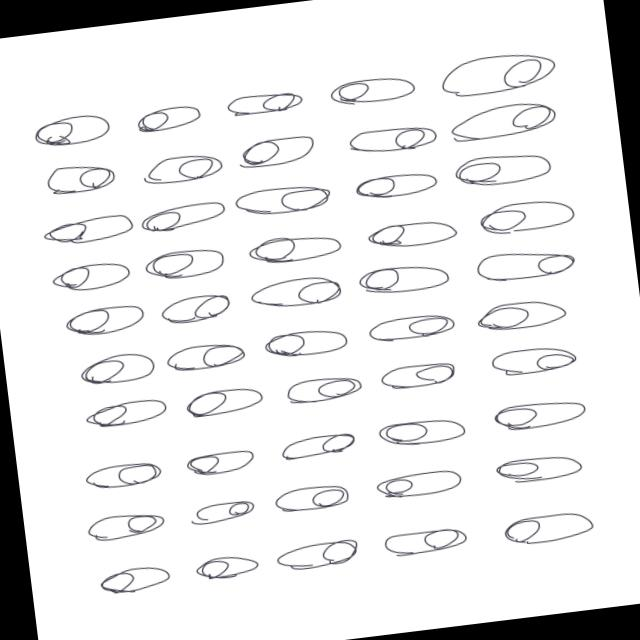Toggle: (429, 42, 572, 104), (499, 490, 606, 560), (350, 302, 464, 358), (444, 95, 564, 146), (487, 382, 597, 436), (354, 205, 466, 257), (232, 174, 341, 227), (244, 266, 354, 318), (444, 143, 550, 196), (354, 251, 460, 303), (10, 104, 120, 154), (477, 191, 586, 241), (466, 240, 578, 288), (372, 511, 471, 565), (48, 248, 140, 306), (474, 288, 576, 340), (30, 153, 126, 207), (34, 202, 137, 252), (134, 190, 236, 240), (486, 334, 592, 382), (489, 441, 586, 493), (374, 404, 472, 454), (214, 79, 314, 128), (82, 388, 176, 440), (231, 127, 327, 176), (371, 458, 466, 507), (270, 470, 368, 517), (140, 236, 232, 286), (70, 342, 158, 394), (272, 421, 365, 470), (274, 528, 355, 584), (324, 68, 422, 114), (82, 500, 174, 548), (160, 333, 252, 381), (348, 115, 440, 162), (77, 451, 166, 499), (262, 318, 350, 366), (368, 354, 468, 396), (276, 364, 371, 408), (154, 287, 242, 334), (181, 378, 274, 422), (56, 298, 147, 341), (344, 166, 438, 207), (138, 148, 225, 192), (244, 228, 340, 267), (180, 440, 263, 483), (189, 542, 258, 592), (89, 556, 171, 598), (188, 488, 266, 532), (130, 98, 207, 138)
